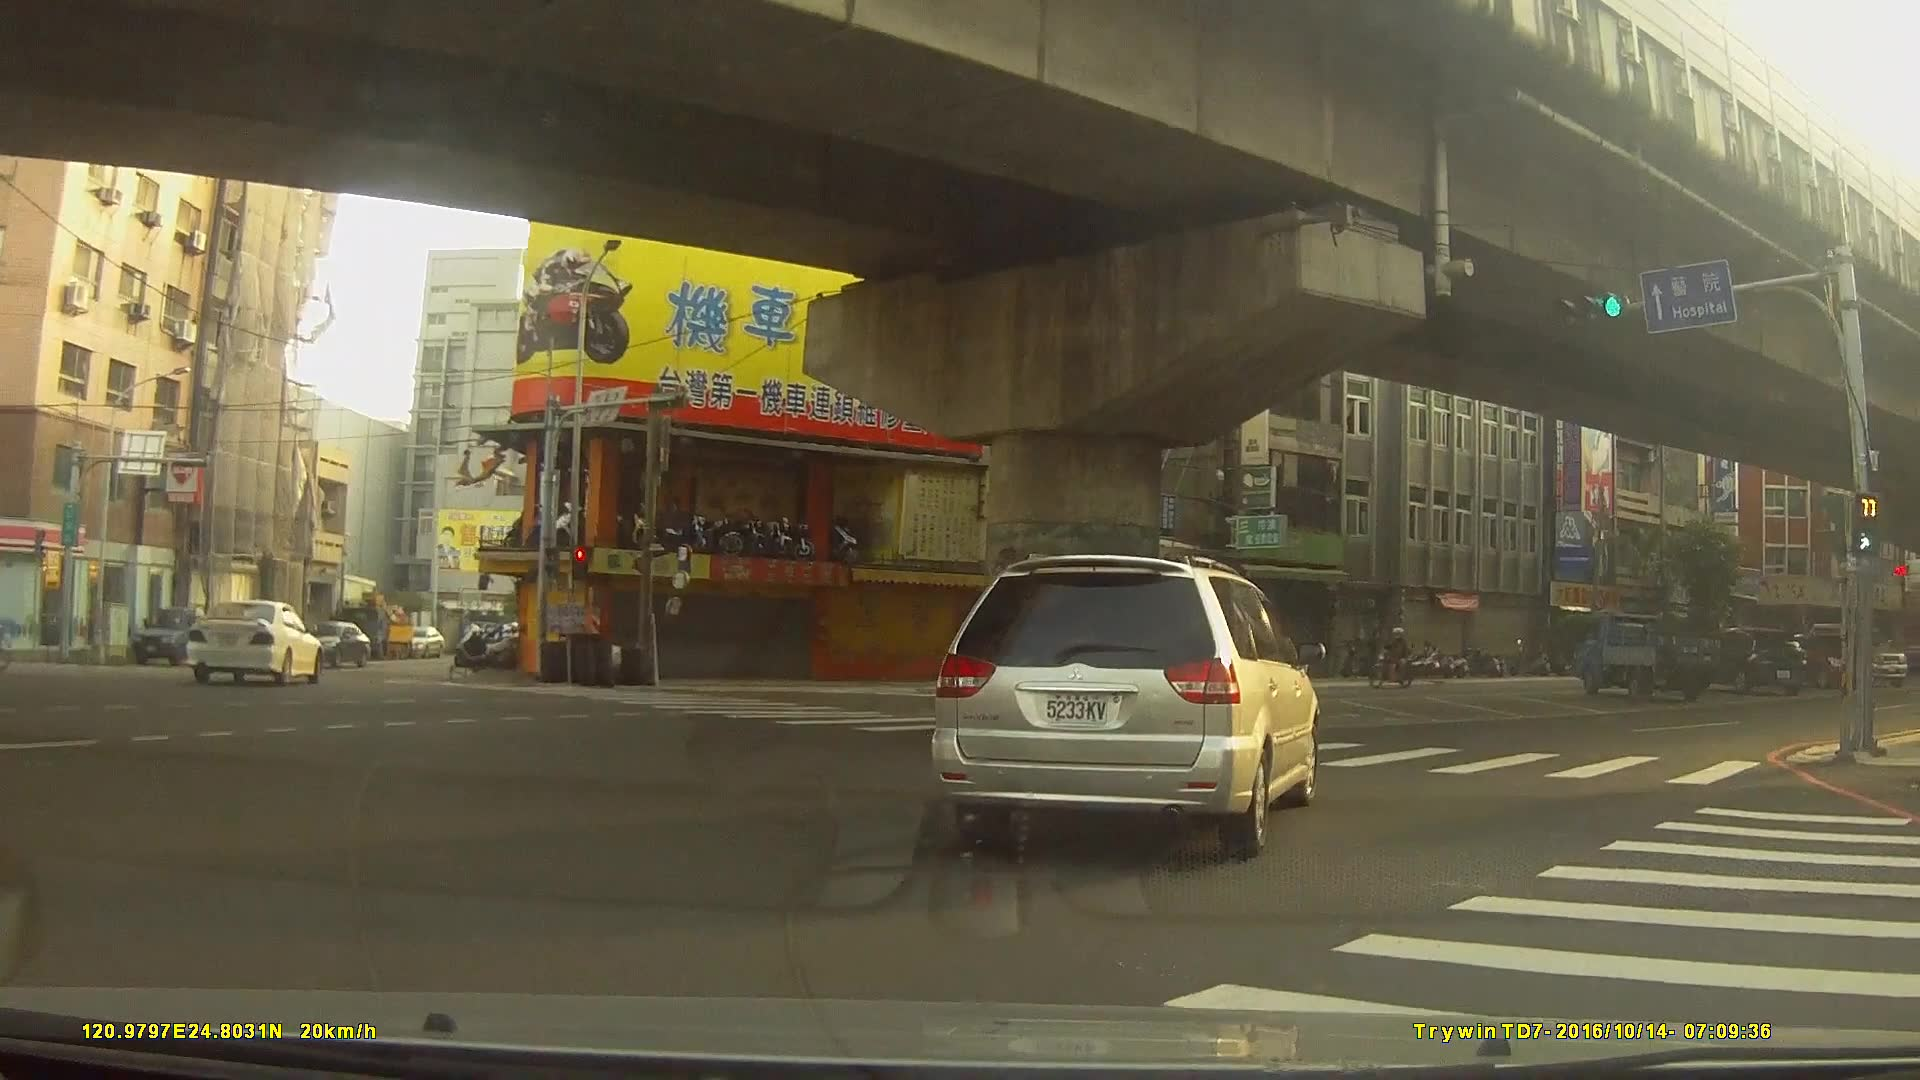rider: (1367, 628, 1424, 690)
vehicle: (927, 554, 1317, 856), (1572, 610, 1724, 699), (183, 596, 322, 683), (1687, 628, 1808, 696), (132, 602, 225, 663), (298, 619, 370, 666), (403, 626, 443, 657)
